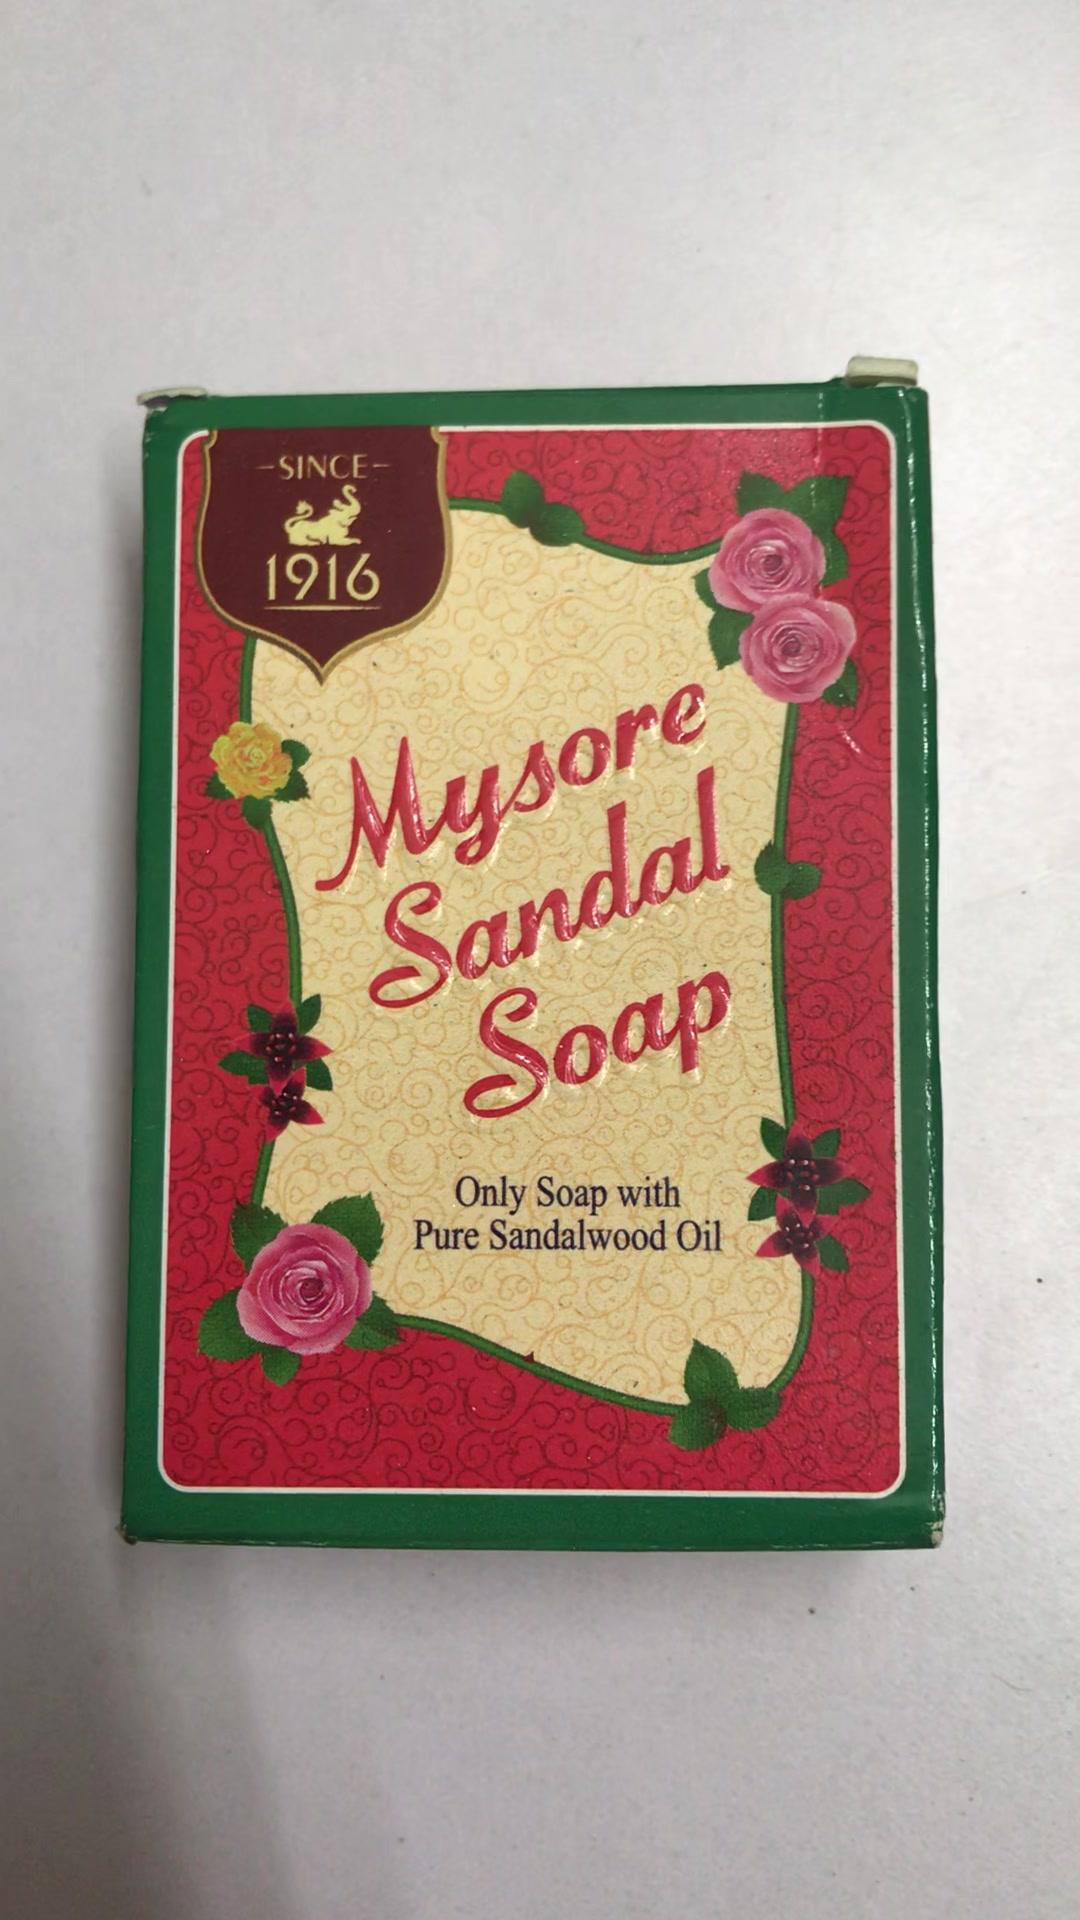mysore sandal soap: (132, 394, 924, 1534)
